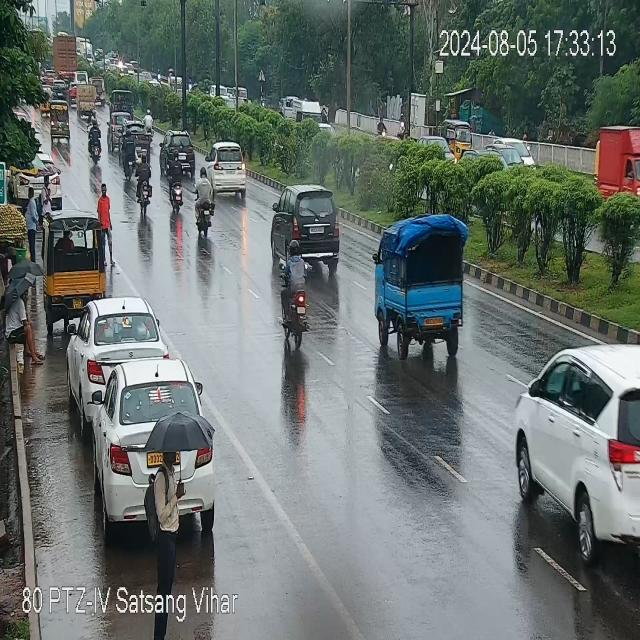2-wheelers: (274, 258, 313, 352), (189, 178, 224, 236), (86, 118, 105, 165)
auto: (373, 223, 473, 352), (43, 213, 107, 325), (269, 186, 342, 269), (49, 102, 75, 146), (76, 82, 99, 117)
car: (512, 350, 638, 566), (88, 360, 218, 538), (66, 297, 165, 400), (198, 144, 249, 198), (161, 131, 199, 176), (110, 113, 133, 147), (111, 90, 136, 117)
pedestrian: (146, 438, 187, 605), (7, 271, 43, 363), (95, 180, 119, 271), (24, 188, 44, 259), (442, 117, 474, 156), (135, 158, 152, 218), (170, 149, 185, 214), (122, 128, 136, 178)
truck: (598, 119, 640, 205), (54, 34, 80, 75)
